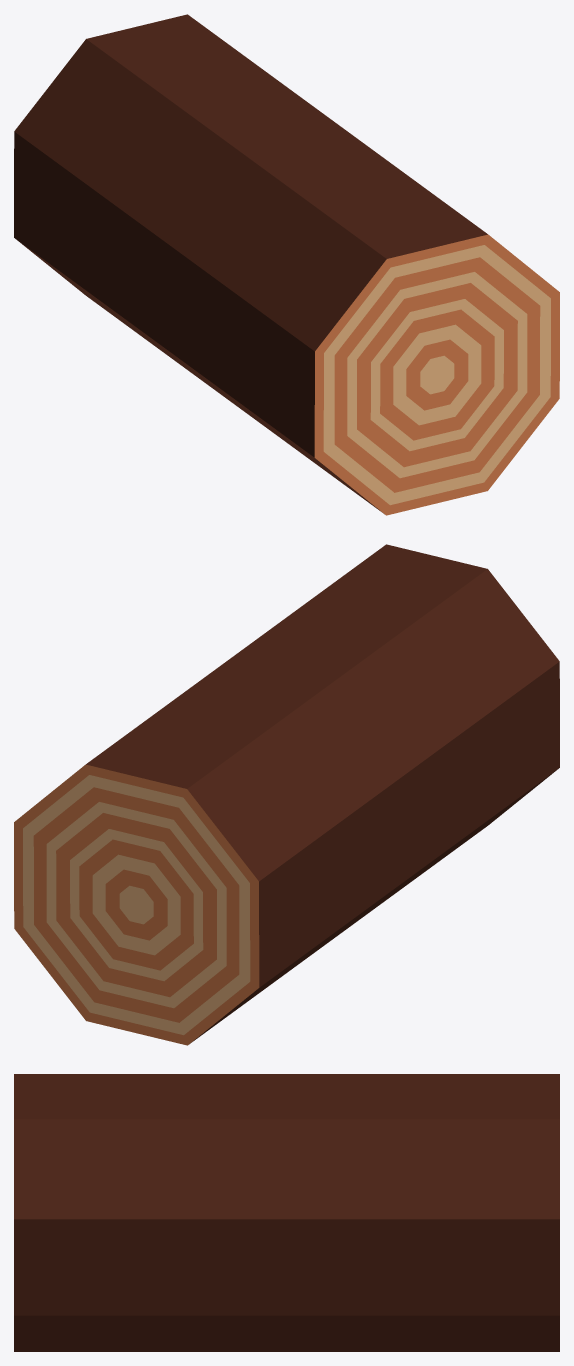
File: Holzstück.fbx
3 views of the same model, one above another, from view 1: azimuth 30°, elevation 25°; view 2: azimuth 150°, elevation 25°; view 3: azimuth 270°, elevation 25° (orthographic). The views are drawn at different scales.
Visible parts, largest first — view 1: Cylinder; view 2: Cylinder; view 3: Cylinder.
Part boxes in pixels (<box>): Cylinder: <box>14,14,559,515</box>; Cylinder: <box>14,544,559,1045</box>; Cylinder: <box>14,1074,559,1351</box>.
Bounding box in the file's own units: 185 × 185 × 393.
